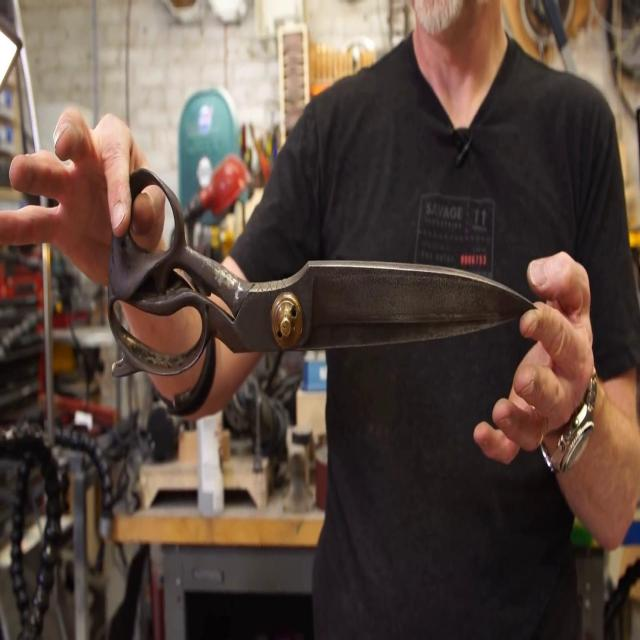scissor: (108, 168, 536, 378)
